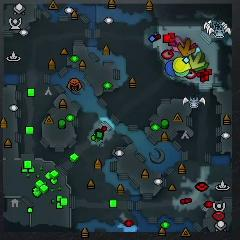p1: (165, 60, 177, 78)
p2: (174, 69, 189, 78)
p4: (173, 57, 192, 72)
x1: (172, 35, 185, 53)
x2: (188, 51, 205, 69)
x4: (192, 53, 209, 75)
x5: (178, 38, 196, 57)
